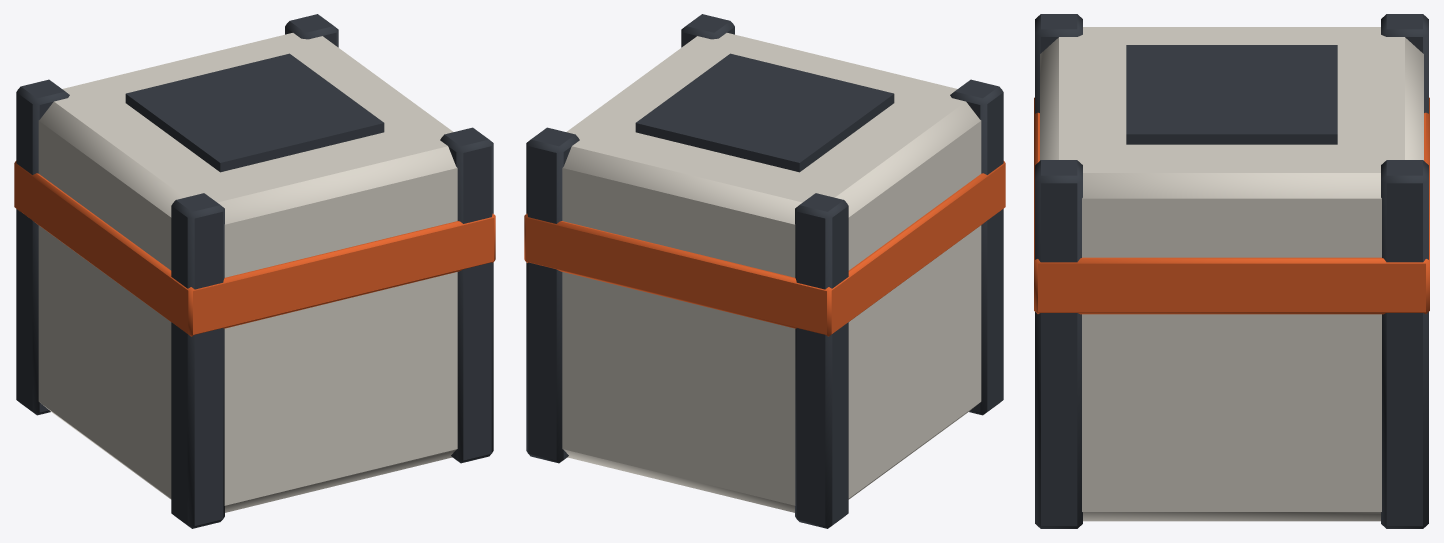
Rendered from crate.glb.
The picture shows the model from 3 angles, left to right: view 1: azimuth 30°, elevation 25°; view 2: azimuth 150°, elevation 25°; view 3: azimuth 270°, elevation 25°; orthographic projection. The views are drawn at different scales.
Parts seen in each view (by area): view 1: crate; view 2: crate; view 3: crate.
Part boxes in pixels (box(x1,y1,x2,y2)): crate: box(14, 14, 495, 528); crate: box(524, 14, 1005, 528); crate: box(1034, 14, 1429, 528).
Size of the model in its own units: 0.412 by 0.412 by 0.412.
